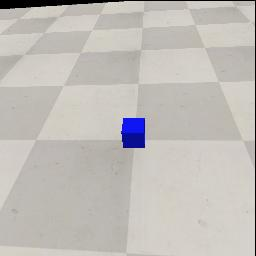box: (121, 118, 145, 148)
